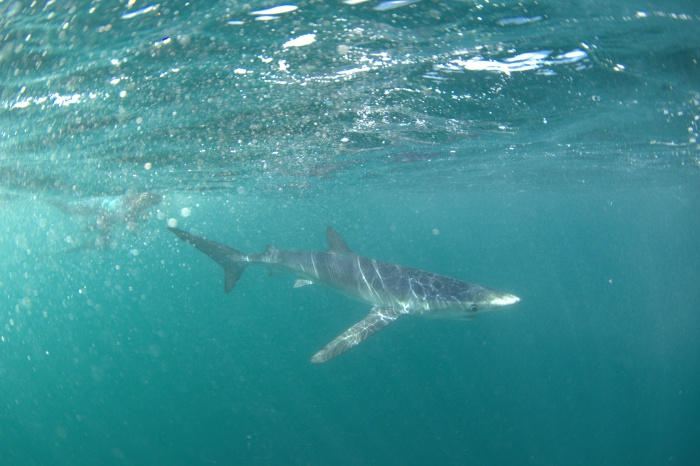Azul: (152, 209, 529, 380)
